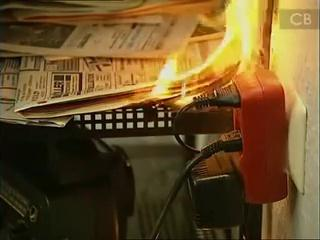Fire: (154, 0, 277, 98)
